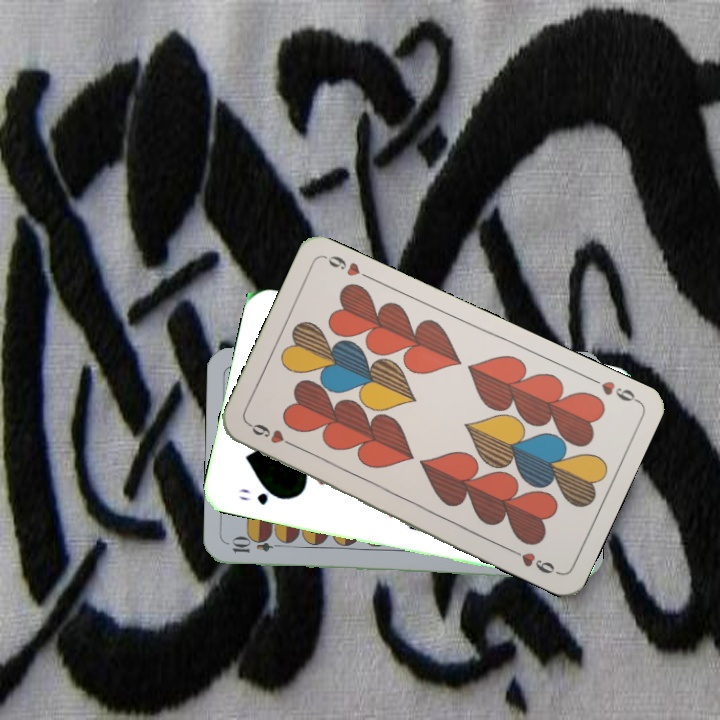E10: (228, 537, 287, 555)
GO: (234, 484, 287, 508)
H9: (244, 419, 300, 451), (585, 373, 641, 405)
